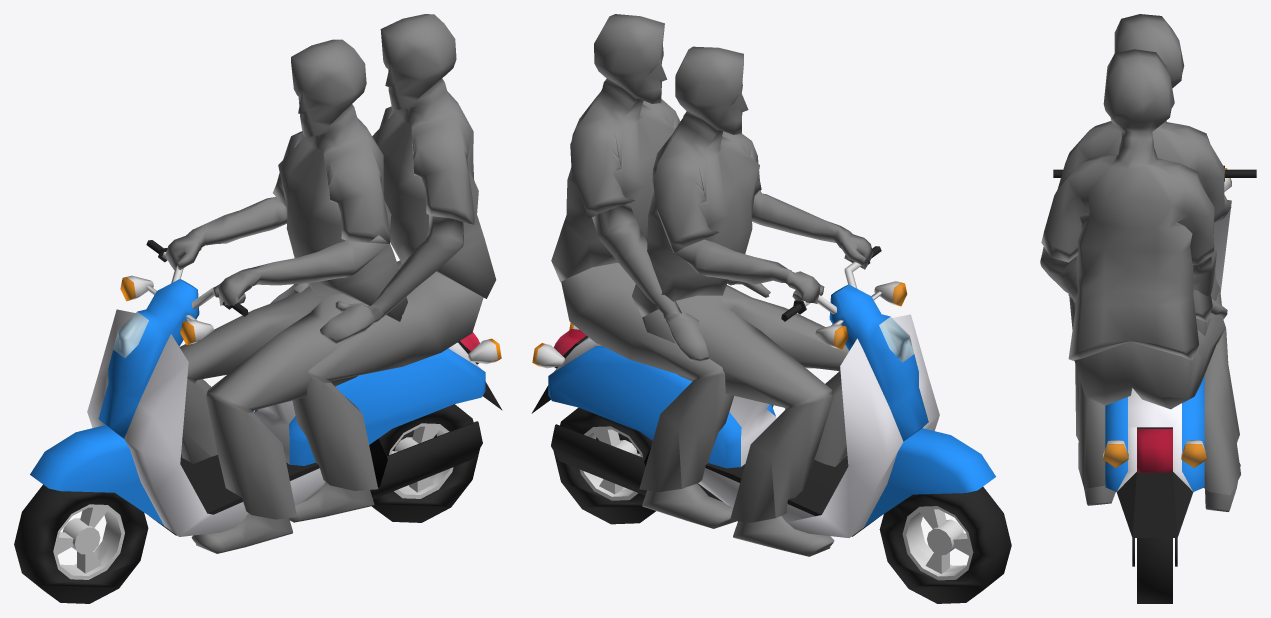
The model's file is twomanscooter.fbx.
3 renders of one model, left to right at view 1: azimuth 30°, elevation 25°; view 2: azimuth 150°, elevation 25°; view 3: azimuth 270°, elevation 25°, orthographic. The views are drawn at different scales.
Parts seen in each view (by area): view 1: Man_sitting_and_holding_something1, G_3d_man_seated1, scooter_half2, scooter_wheel3, scooter_half1, scooter_wheel4, scooter_wheel1; view 2: Man_sitting_and_holding_something1, G_3d_man_seated1, scooter_half1, scooter_wheel1, scooter_half2, scooter_wheel2, scooter_wheel3; view 3: G_3d_man_seated1, Man_sitting_and_holding_something1, scooter_half1, scooter_half2, scooter_wheel2, scooter_wheel4, scooter_light2, scooter_light4.
Part boxes in pixels (bbox=[...]): Man_sitting_and_holding_something1: bbox=[165, 39, 407, 553]; G_3d_man_seated1: bbox=[270, 14, 496, 522]; scooter_half2: bbox=[39, 281, 502, 536]; scooter_wheel3: bbox=[22, 489, 148, 603]; scooter_half1: bbox=[30, 240, 491, 524]; scooter_wheel4: bbox=[372, 404, 479, 522]; scooter_wheel1: bbox=[14, 484, 113, 593]; Man_sitting_and_holding_something1: bbox=[632, 46, 873, 556]; G_3d_man_seated1: bbox=[551, 14, 773, 528]; scooter_half1: bbox=[531, 287, 986, 537]; scooter_wheel1: bbox=[879, 491, 1003, 603]; scooter_half2: bbox=[542, 246, 995, 525]; scooter_wheel2: bbox=[553, 407, 655, 524]; scooter_wheel3: bbox=[913, 487, 1011, 593]; G_3d_man_seated1: bbox=[1040, 49, 1240, 511]; Man_sitting_and_holding_something1: bbox=[1058, 14, 1239, 442]; scooter_half1: bbox=[1155, 165, 1256, 566]; scooter_half2: bbox=[1053, 169, 1154, 566]; scooter_wheel2: bbox=[1155, 466, 1172, 603]; scooter_wheel4: bbox=[1137, 466, 1154, 603]; scooter_light2: bbox=[1181, 440, 1206, 467]; scooter_light4: bbox=[1103, 440, 1128, 467].
Bounding box in the file's own units: 1.63 × 1.66 × 0.6081.
